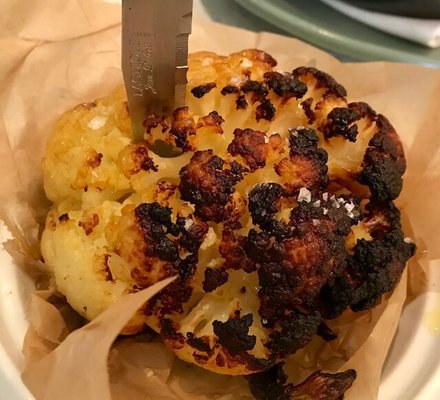burger: (120, 1, 193, 144)
sandwich: (12, 44, 419, 394)
